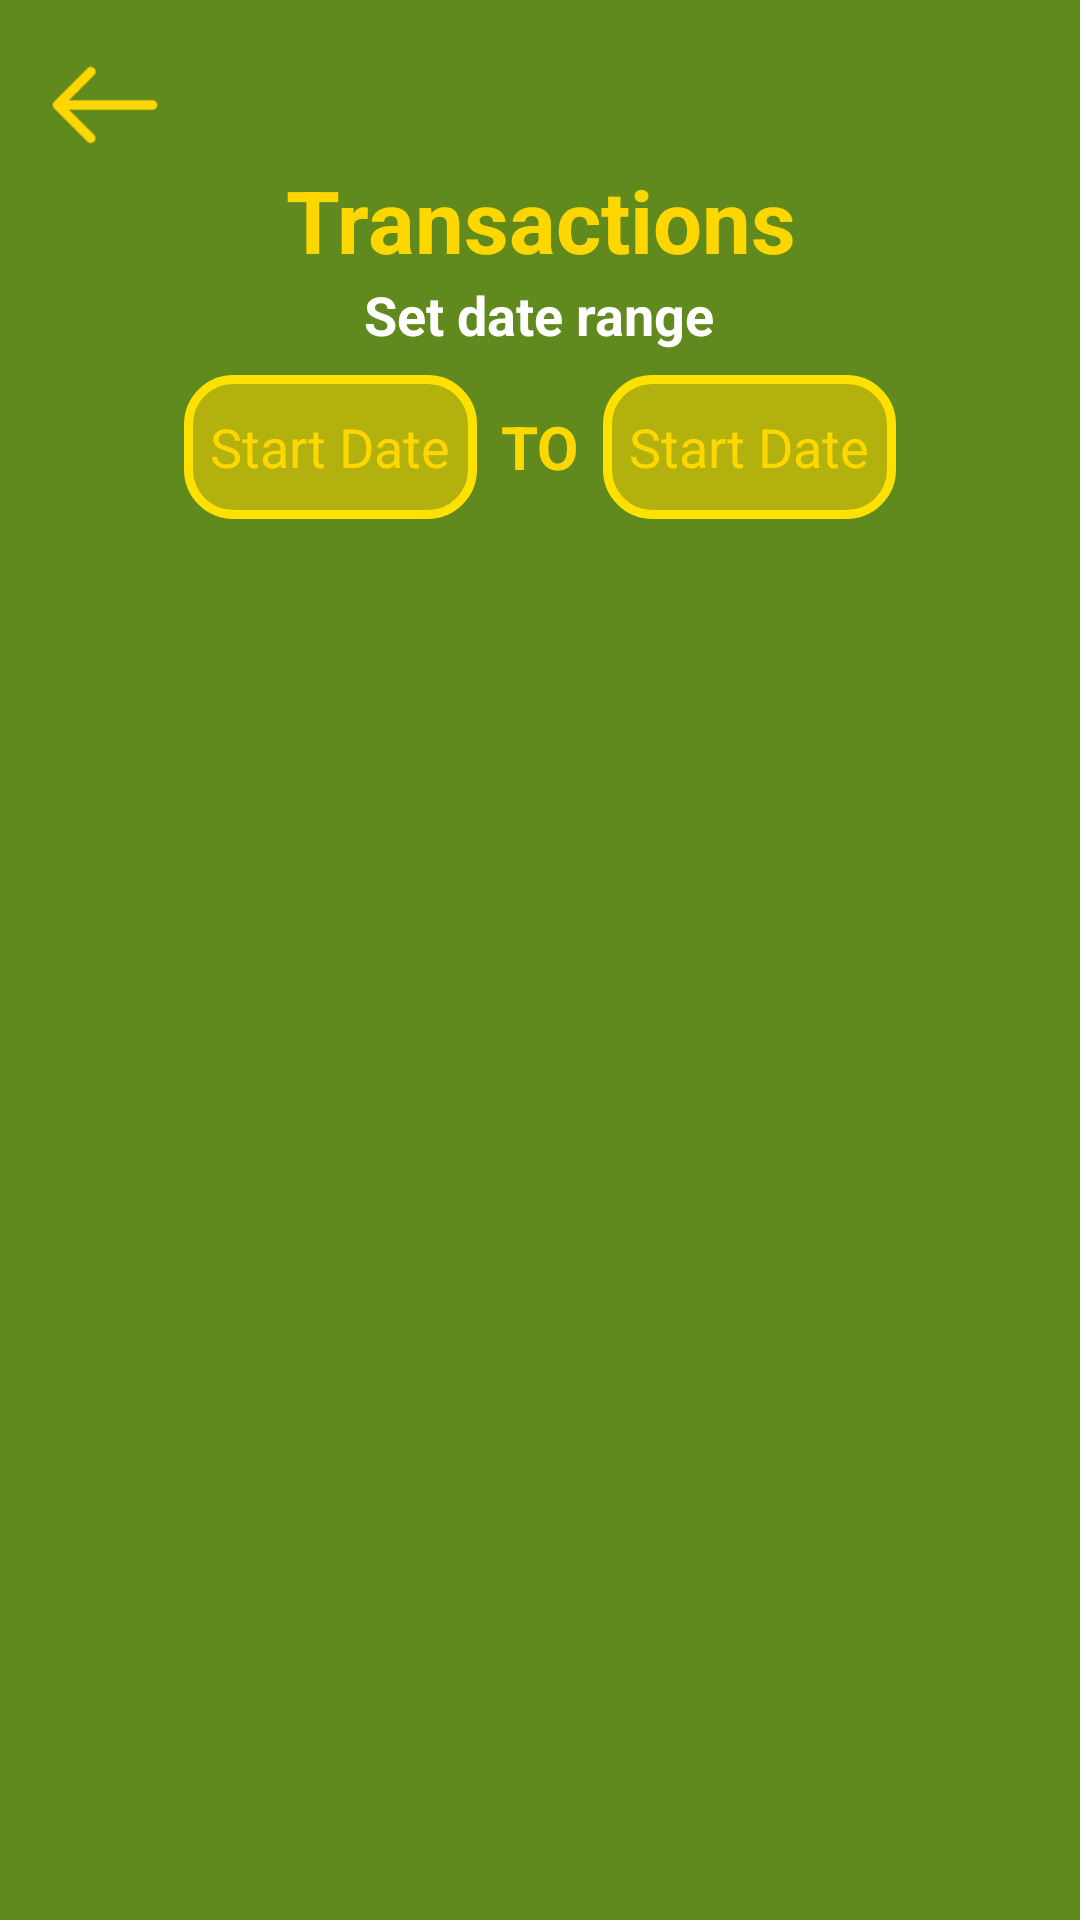

Screen size 1080px x 1920px. Icon name, then its box in pixels as (x1=x1, y1=y1, x2=x2, y2=y2):
back: (x1=52, y1=66, x2=158, y2=144)
